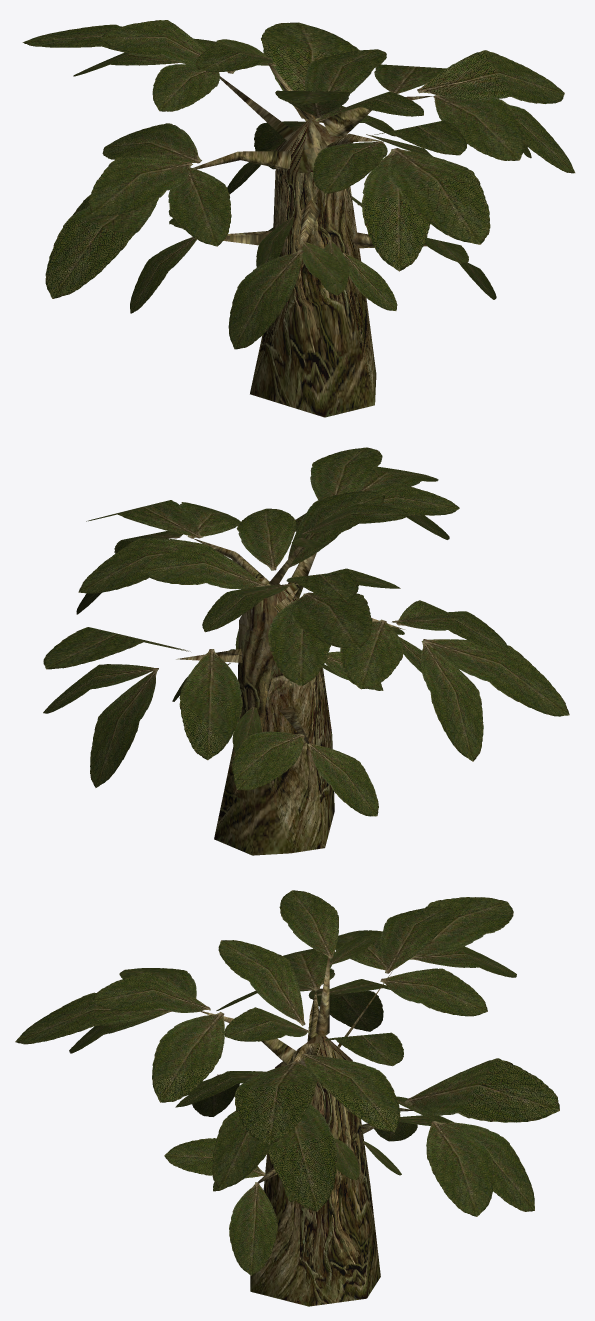
File: decd_megaleaf_l1.fbx
3 renders of one model, top to bottom at view 1: azimuth 30°, elevation 25°; view 2: azimuth 150°, elevation 25°; view 3: azimuth 270°, elevation 25°, orthographic. The views are drawn at different scales.
Parts seen in each view (by area): view 1: mesh_node; view 2: mesh_node; view 3: mesh_node.
Part boxes in pixels (x1,y1,x2,y2): mesh_node: [22, 20, 575, 417]; mesh_node: [43, 447, 569, 855]; mesh_node: [15, 890, 559, 1306].
Size of the model in its own units: 9.59 by 6.16 by 9.5.
